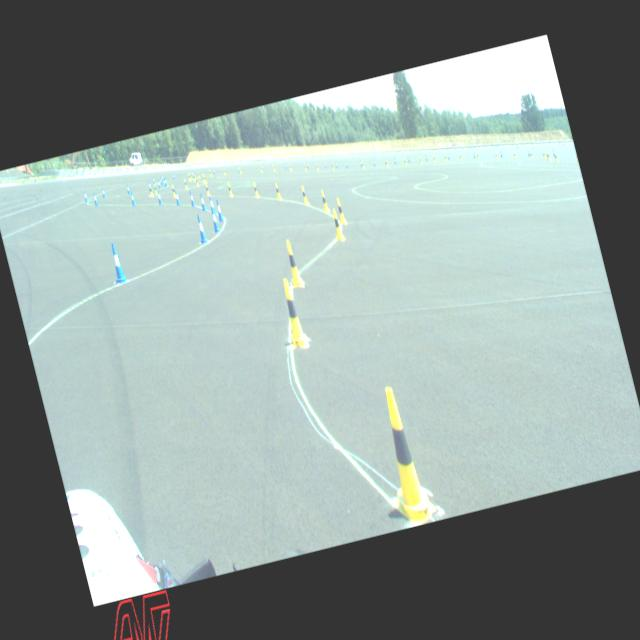blue_cone: (106, 242, 126, 284), (192, 213, 208, 243), (208, 204, 221, 233), (213, 198, 223, 222), (206, 193, 216, 216), (198, 192, 206, 212), (154, 189, 162, 206), (174, 190, 182, 206), (188, 189, 195, 207), (129, 190, 136, 206), (92, 192, 98, 206), (82, 188, 88, 202), (100, 186, 106, 198), (124, 183, 130, 195), (162, 176, 166, 186), (333, 160, 338, 168), (146, 180, 150, 190), (163, 176, 167, 186), (358, 158, 362, 168), (159, 176, 163, 185), (157, 180, 161, 188), (160, 174, 164, 182), (498, 150, 502, 158), (526, 150, 530, 158), (344, 160, 348, 167), (284, 162, 288, 169), (372, 159, 376, 166), (323, 160, 327, 167), (392, 157, 396, 164), (236, 165, 240, 172), (152, 176, 156, 183), (190, 170, 194, 177), (171, 172, 175, 178), (406, 156, 410, 162), (424, 154, 428, 160), (472, 152, 476, 158), (212, 168, 215, 175), (261, 164, 264, 171), (446, 152, 449, 158), (552, 150, 555, 156), (306, 162, 308, 168)
yellow_cone: (367, 382, 438, 524), (274, 275, 310, 349), (280, 238, 304, 289), (328, 206, 346, 242), (334, 197, 346, 226), (318, 189, 328, 212), (299, 185, 309, 205), (252, 180, 260, 198), (274, 182, 281, 200), (226, 182, 233, 197), (170, 182, 176, 196), (204, 182, 210, 196), (148, 184, 154, 197), (182, 179, 188, 190), (152, 182, 158, 193), (554, 152, 558, 162), (194, 176, 198, 186), (200, 172, 204, 182), (574, 152, 578, 162), (402, 158, 407, 165), (196, 170, 200, 178), (360, 160, 364, 168), (314, 162, 318, 170), (302, 162, 306, 170), (238, 166, 242, 174), (259, 164, 263, 172), (546, 152, 550, 160), (189, 172, 193, 180), (529, 150, 533, 158), (202, 174, 206, 182), (545, 150, 549, 158), (512, 151, 516, 158), (418, 156, 422, 163), (384, 160, 388, 167), (288, 163, 292, 170), (476, 152, 480, 159), (271, 164, 275, 171), (542, 151, 546, 158), (222, 168, 226, 175), (208, 169, 212, 176), (330, 162, 334, 169), (432, 156, 436, 162), (187, 172, 190, 180), (458, 154, 462, 160), (192, 173, 195, 181), (494, 152, 498, 158), (444, 154, 446, 160)
